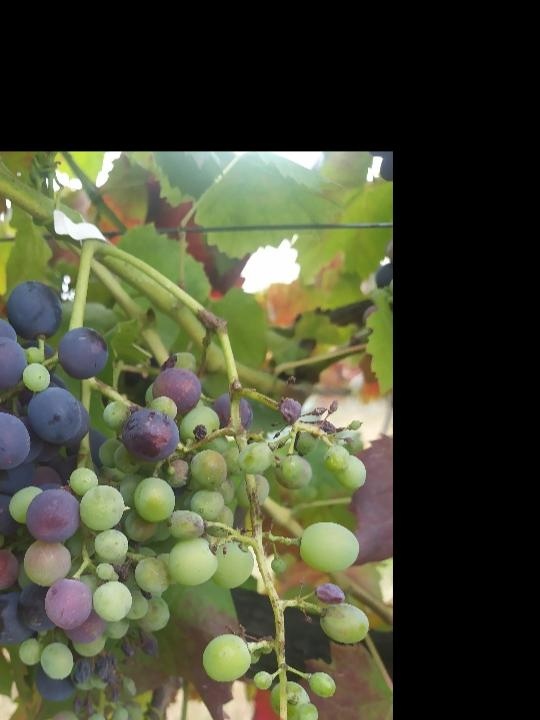grape: (148, 349, 371, 720), (0, 281, 174, 720)
